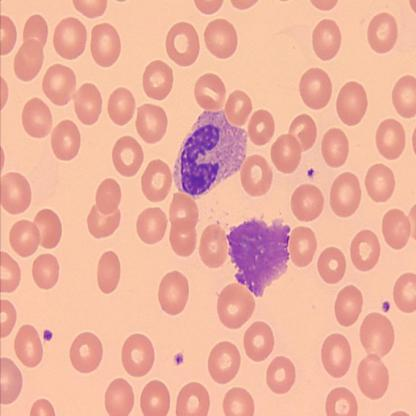Band Neutrophil: (172, 107, 248, 198)
